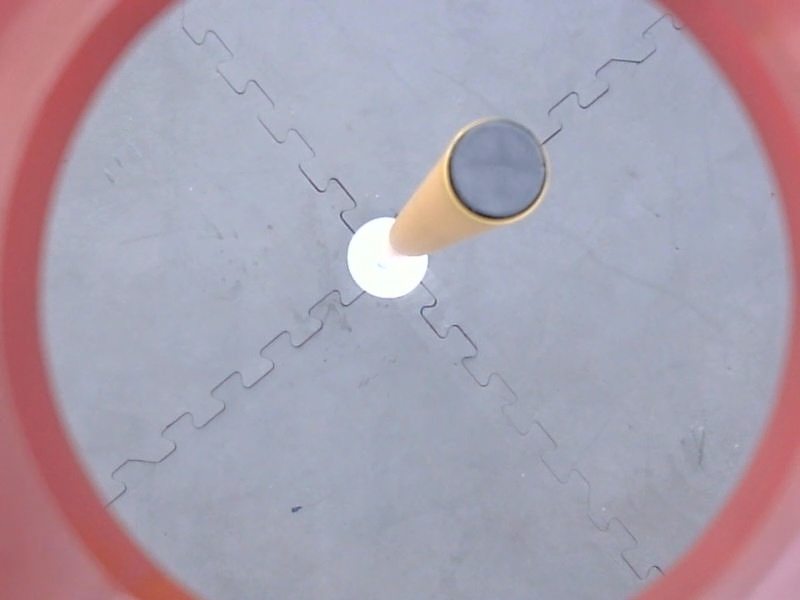tip: (438, 113, 556, 228)
